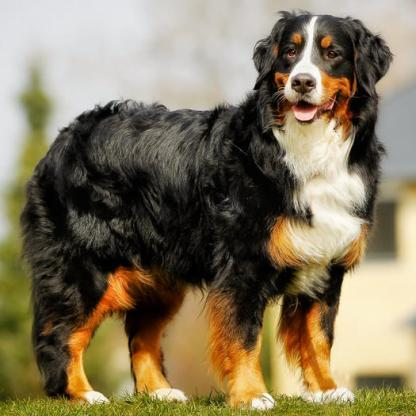Bernese Mountain: (17, 7, 393, 407)
